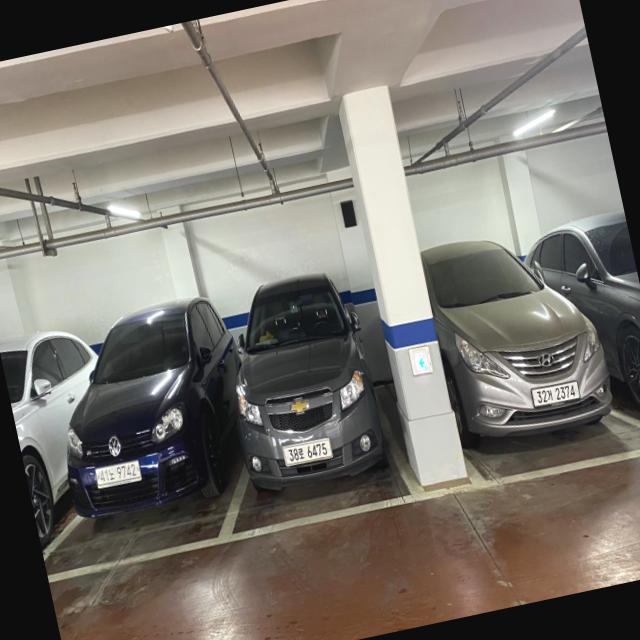car: (414, 208, 620, 466), (40, 296, 238, 526), (215, 267, 394, 500), (547, 200, 640, 455), (0, 328, 83, 571)
